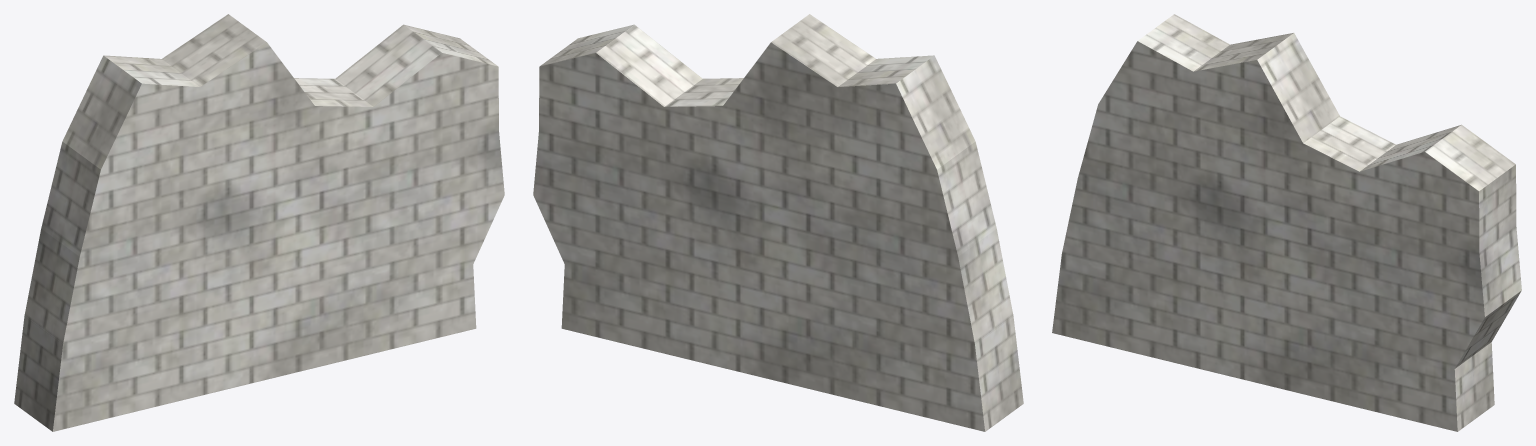
File: debris_nyc_glazed_brick.glb
3 views of the same model, side by side, from view 1: azimuth 30°, elevation 25°; view 2: azimuth 150°, elevation 25°; view 3: azimuth 330°, elevation 25° (orthographic). The views are drawn at different scales.
Parts seen in each view (by area): view 1: debris_nyc_glazed_brick; view 2: debris_nyc_glazed_brick; view 3: debris_nyc_glazed_brick.
Boxes of the visible parts, box(x1,y1,x2,y2) form: debris_nyc_glazed_brick: box(14, 14, 504, 431); debris_nyc_glazed_brick: box(533, 14, 1023, 431); debris_nyc_glazed_brick: box(1052, 14, 1521, 431).
Bounding box in the file's own units: 2.03 × 1.45 × 0.3.
Materials: 1 (1 with a texture image).
